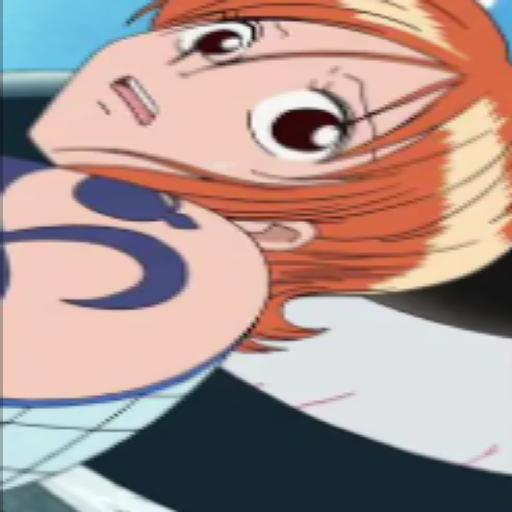Nami: (0, 0, 512, 491)
